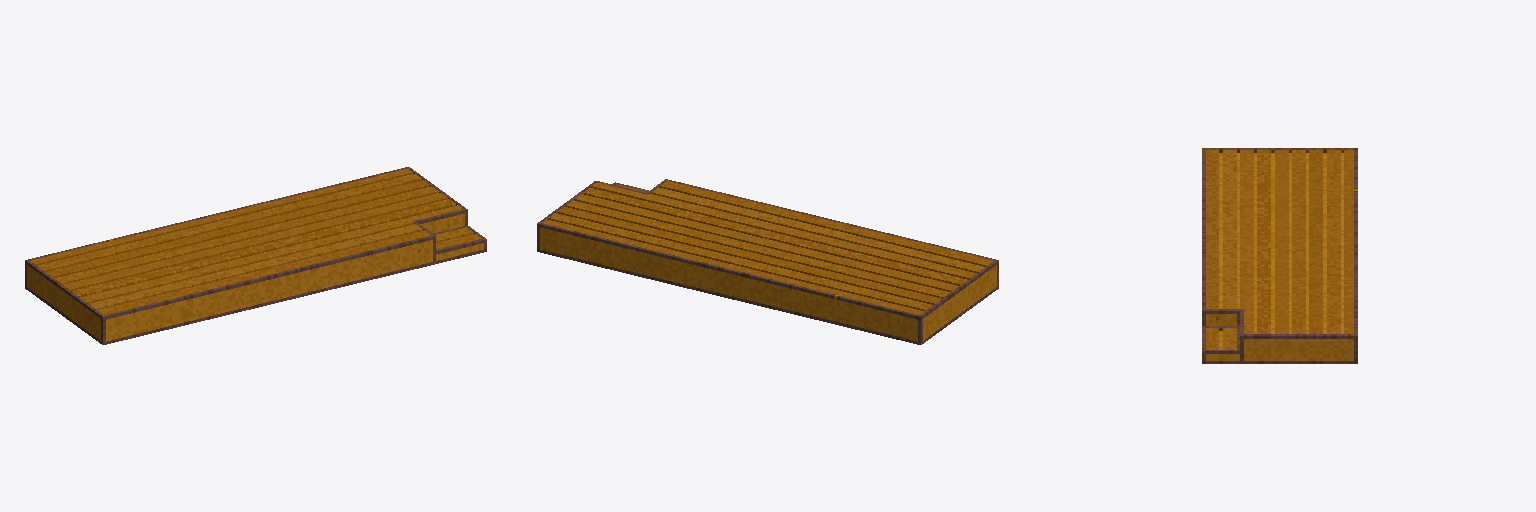
3 renders of one model, left to right at view 1: azimuth 30°, elevation 25°; view 2: azimuth 150°, elevation 25°; view 3: azimuth 270°, elevation 25°, orthographic.
Parts seen in each view (by area): view 1: object 1; view 2: object 1; view 3: object 1.
Part boxes in pixels (left/top/right/bottom): object 1: left=25, top=167, right=486, bottom=344; object 1: left=537, top=179, right=998, bottom=344; object 1: left=1202, top=148, right=1357, bottom=363.
Size of the model in its own units: 12.8 by 0.9 by 4.5.
Materials: 1 (1 with a texture image).